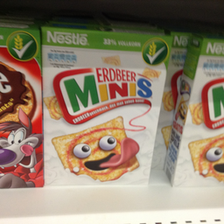cereal: (41, 24, 172, 185), (1, 29, 39, 188)
